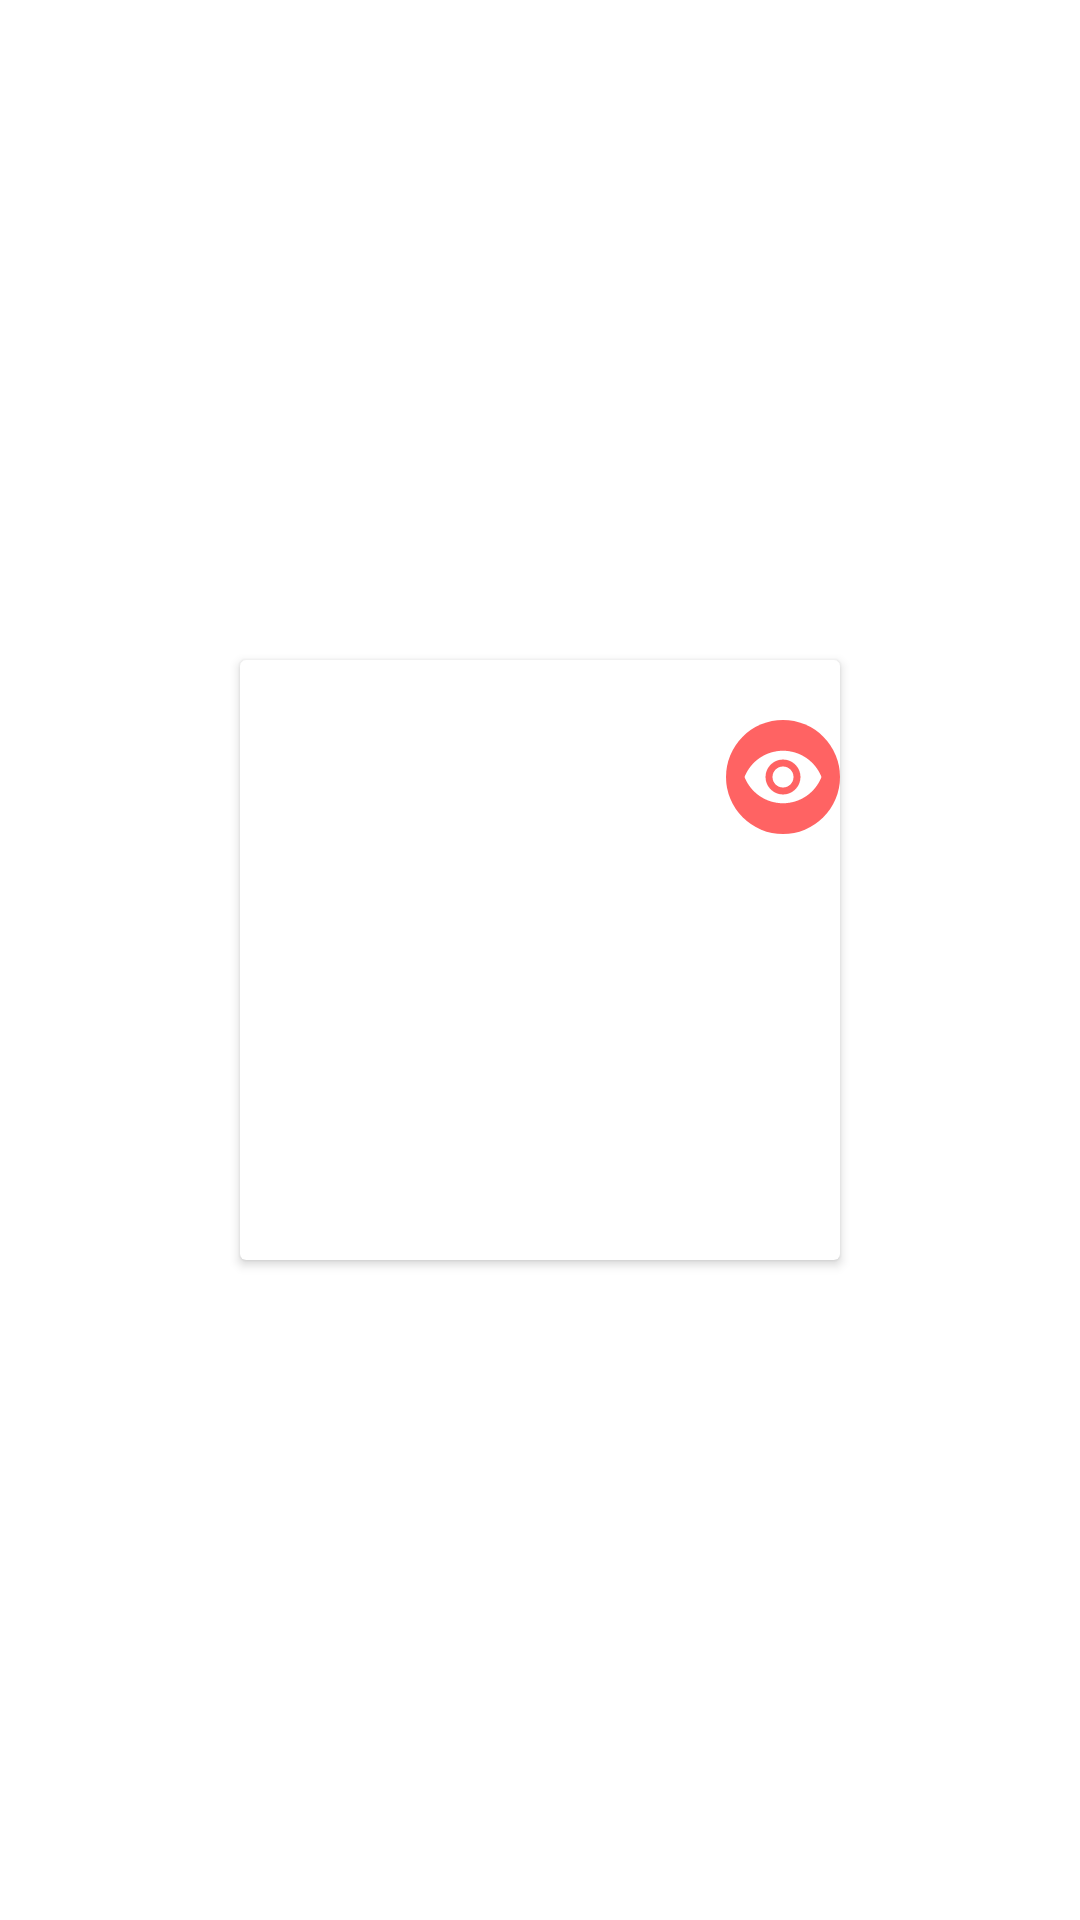

Where icons sit on this 1080*1920 app screen, as (x1, y1, x2, y2):
remove eye: (726, 720, 840, 834)
